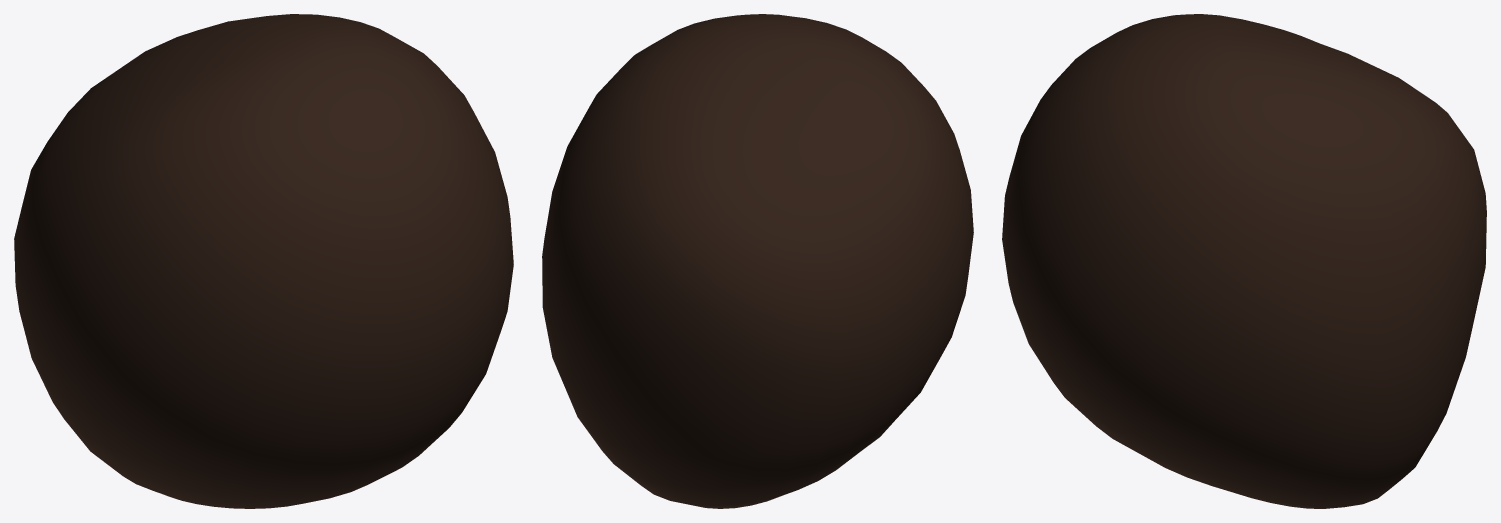
File: Hair1M.glb
3 renders of one model, left to right at view 1: azimuth 30°, elevation 25°; view 2: azimuth 150°, elevation 25°; view 3: azimuth 270°, elevation 25°, orthographic. The views are drawn at different scales.
Visible parts, largest first — view 1: Hair1M.001; view 2: Hair1M.001; view 3: Hair1M.001.
Boxes of the visible parts, <box> form: Hair1M.001: <box>14,14,513,508</box>; Hair1M.001: <box>542,14,973,508</box>; Hair1M.001: <box>1002,14,1486,508</box>.
Bounding box in the file's own units: 3.1 × 3.4 × 3.28.
